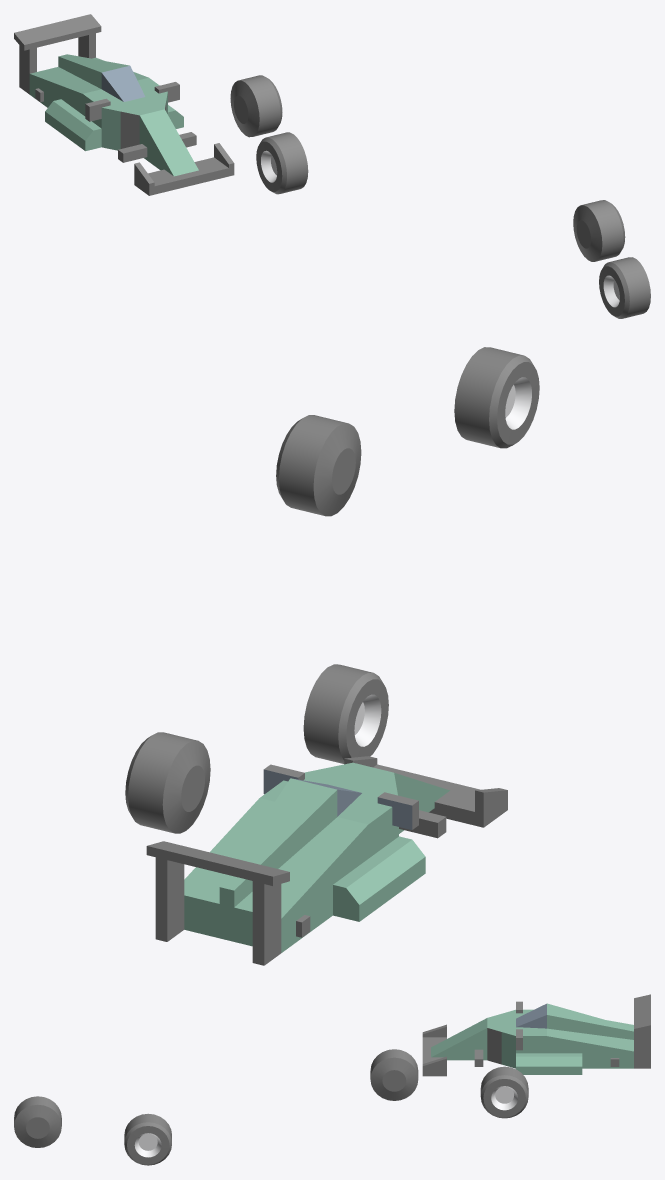
File: raceCarGreen.glb
3 renders of one model, top to bottom at view 1: azimuth 30°, elevation 25°; view 2: azimuth 150°, elevation 25°; view 3: azimuth 270°, elevation 25°, orthographic. The views are drawn at different scales.
Visible parts, largest first — view 1: body, wheelBackLeft, wheelFrontLeft, wheelBackRight, wheelFrontRight; view 2: body, wheelFrontLeft, wheelBackLeft, wheelFrontRight, wheelBackRight; view 3: body, wheelBackRight, wheelBackLeft, wheelFrontRight, wheelFrontLeft.
Boxes of the visible parts, <box> form: body: <box>14,14,234,195</box>; wheelBackLeft: <box>230,75,282,137</box>; wheelFrontLeft: <box>573,200,625,261</box>; wheelBackRight: <box>256,132,308,194</box>; wheelFrontRight: <box>599,257,650,318</box>; body: <box>146,756,507,965</box>; wheelFrontLeft: <box>276,415,361,516</box>; wheelBackLeft: <box>125,732,210,833</box>; wheelFrontRight: <box>454,347,539,448</box>; wheelBackRight: <box>303,664,388,763</box>; body: <box>422,994,650,1076</box>; wheelBackRight: <box>370,1049,418,1100</box>; wheelBackLeft: <box>480,1066,528,1118</box>; wheelFrontRight: <box>14,1096,61,1147</box>; wheelFrontLeft: <box>124,1113,171,1165</box>.
Bounding box in the file's own units: 1.69 × 0.387 × 3.75.
